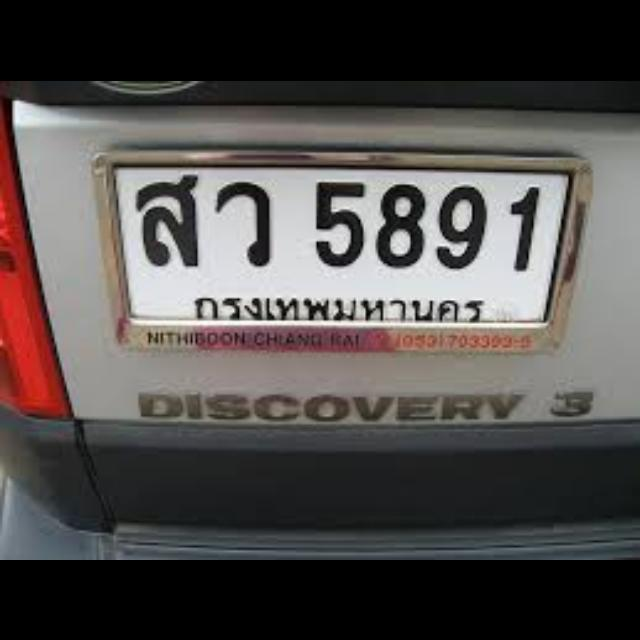licenseplate: (89, 147, 591, 353)
